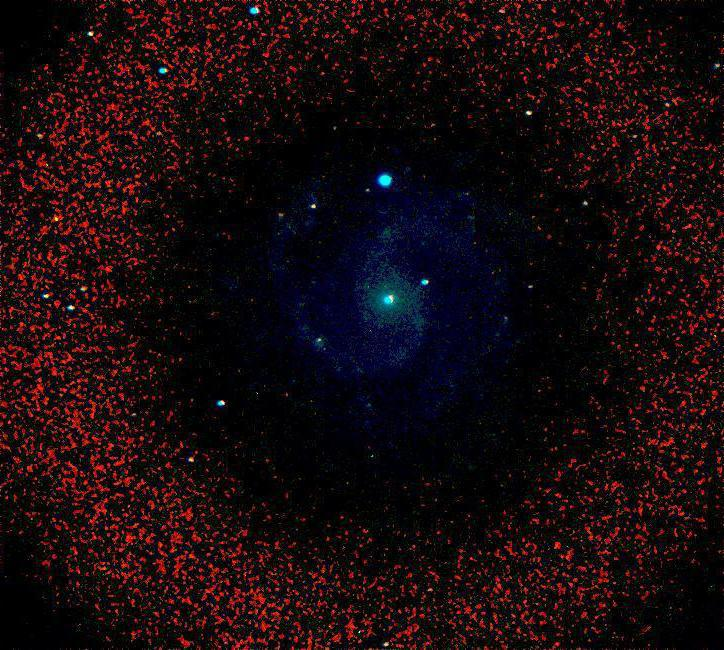star: (368, 270, 398, 300)
